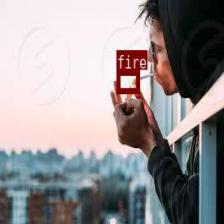fire: (116, 70, 139, 92)
